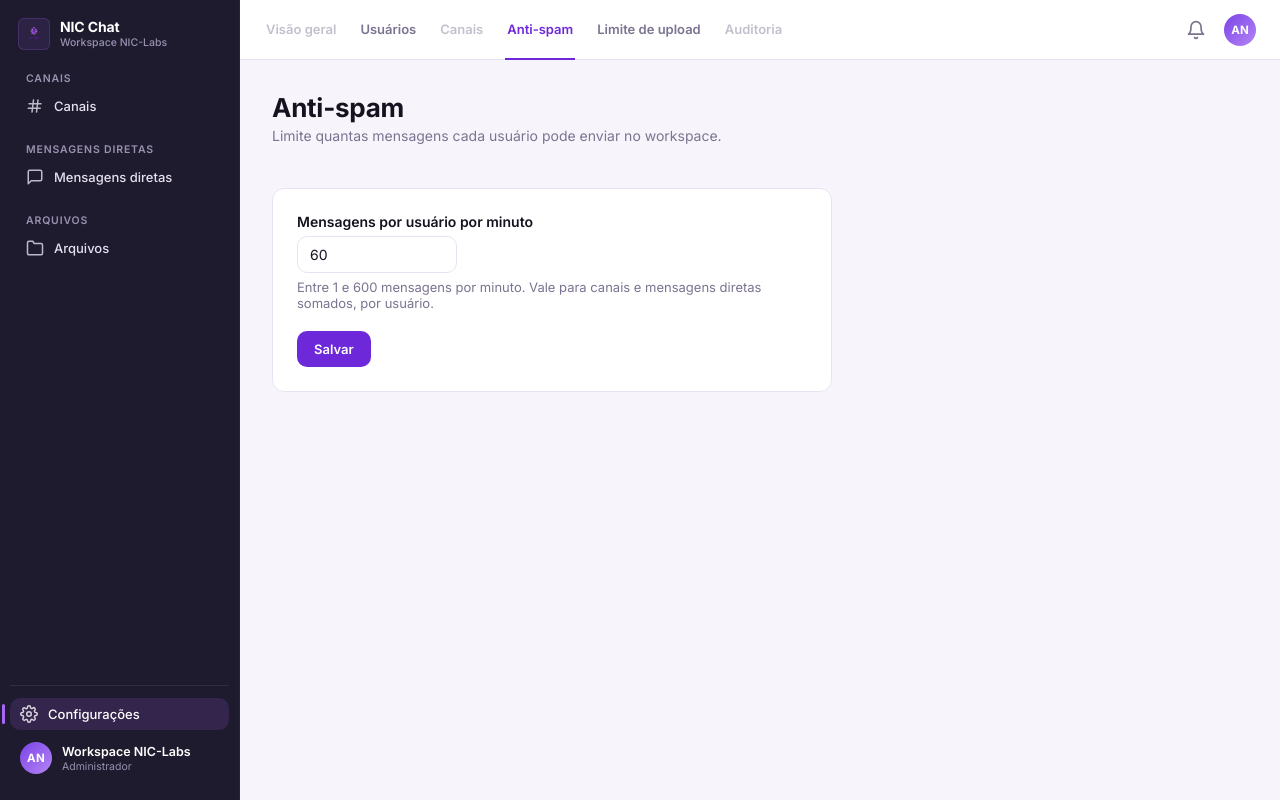
Test case: AdminAntiSpamPage › surfaces a save failure without leaking the server message
Replace the text in the number field labelled "Mensagens por usuário por minuto" with "30". click: (377, 254)
box: [297,236,457,273]
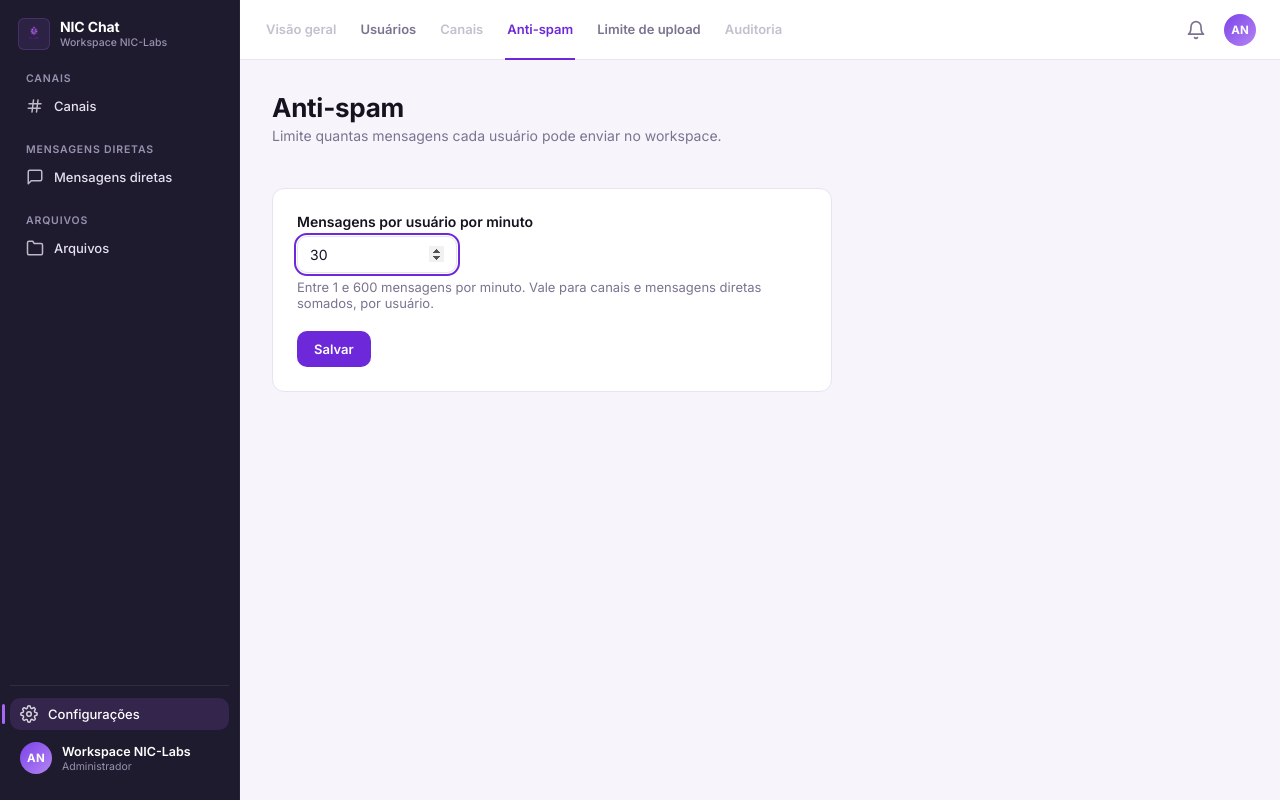
Click the button "Salvar". click: click(334, 349)
box: [297,331,371,367]
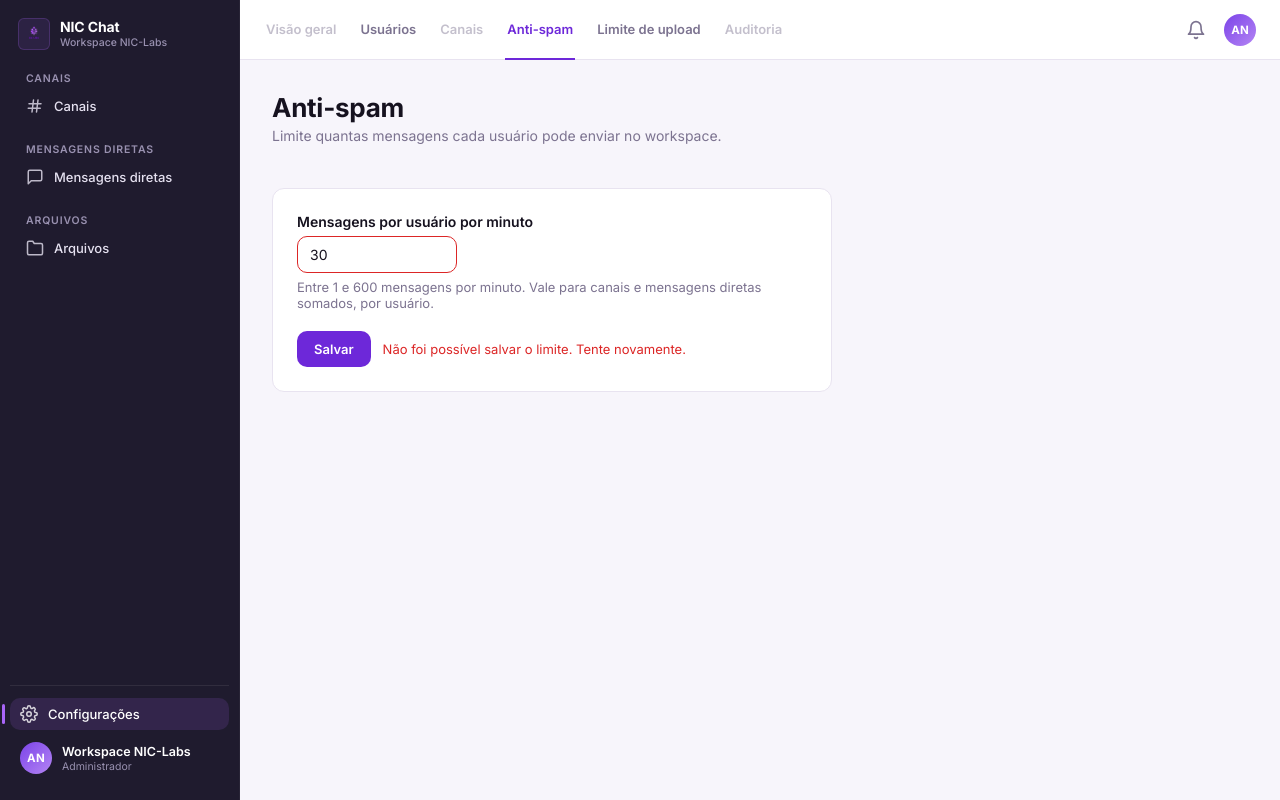
Expected: the message does not show "chat.workspaces", [383,341,686,357]
Now the message shows "Não foi possível salvar", box [383,341,686,357]
